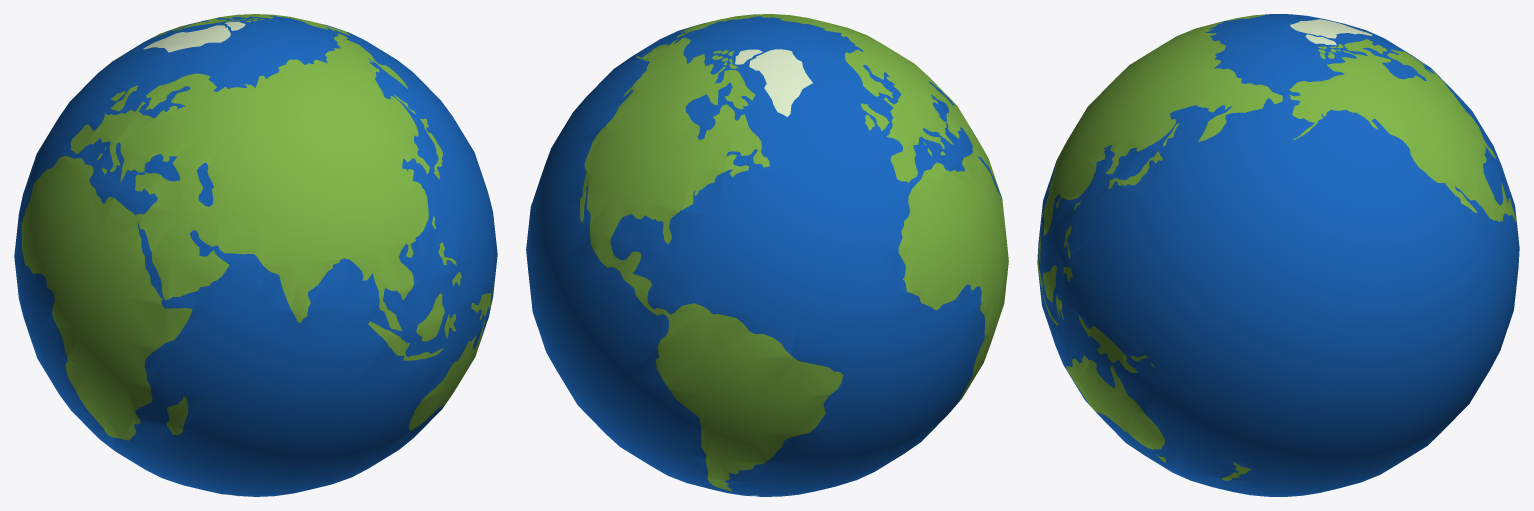
Rendered from globe_showing_asia_australia.gltf.
3 views of the same model, side by side, from view 1: azimuth 30°, elevation 25°; view 2: azimuth 150°, elevation 25°; view 3: azimuth 270°, elevation 25° (orthographic).
Parts seen in each view (by area): view 1: Sphere.394; view 2: Sphere.394; view 3: Sphere.394.
Part boxes in pixels (x1,y1,x2,y2): Sphere.394: (14, 14, 497, 496); Sphere.394: (526, 14, 1008, 496); Sphere.394: (1037, 14, 1519, 496).
Bounding box in the file's own units: 1.99 × 2 × 1.99.
1 material, 1 textured.
